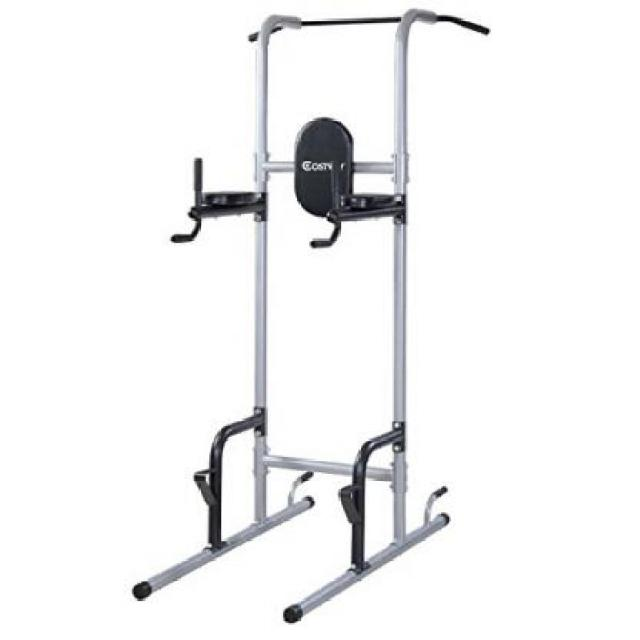chinning dipping: (174, 12, 491, 614)
